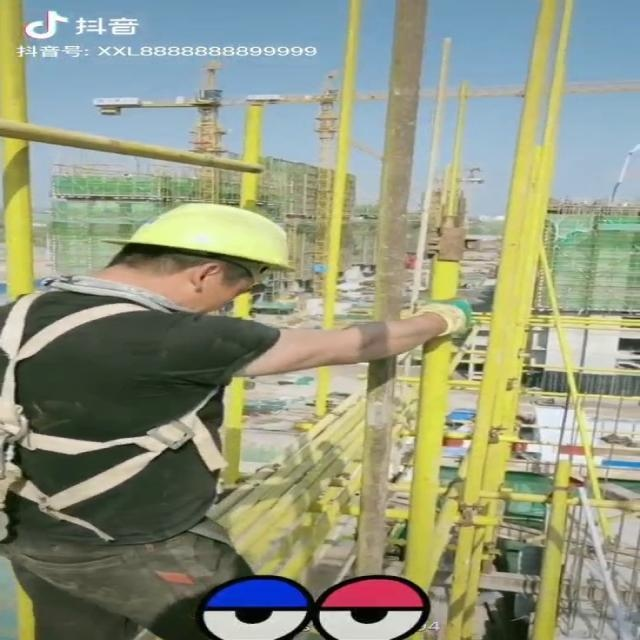Arnes_seguridad: (0, 279, 255, 544)
